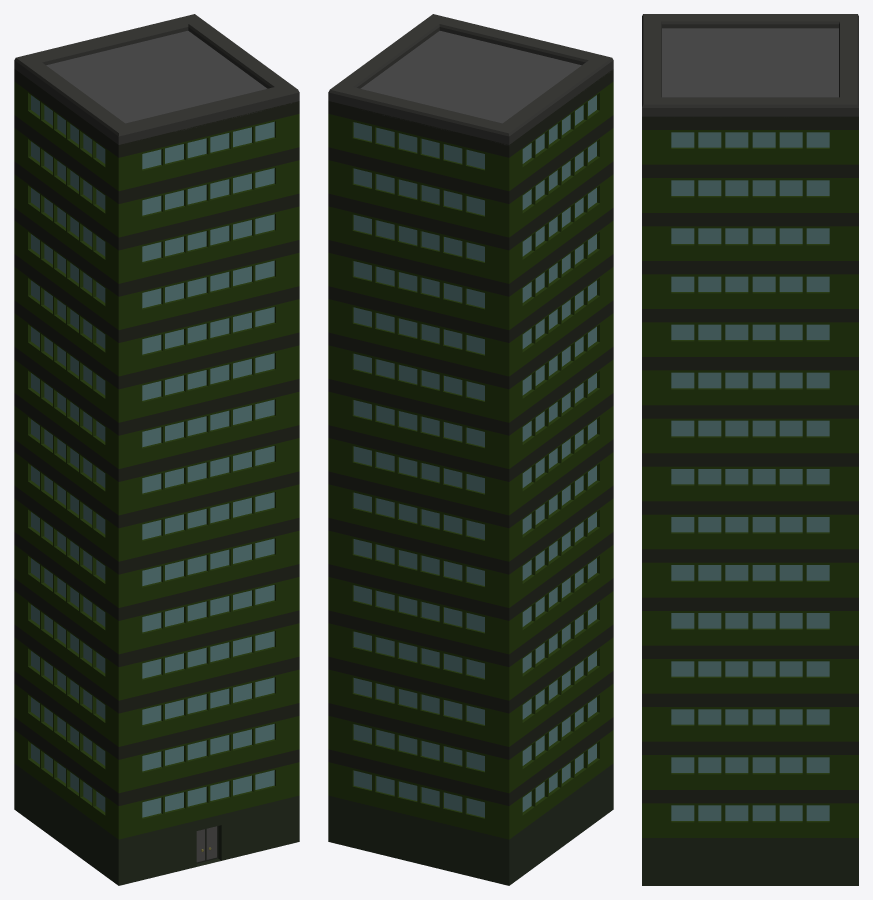
File: edificio_10.fbx
3 renders of one model, left to right at view 1: azimuth 30°, elevation 25°; view 2: azimuth 150°, elevation 25°; view 3: azimuth 270°, elevation 25°, orthographic. The views are drawn at different scales.
Parts seen in each view (by area): view 1: Cube.013; view 2: Cube.013; view 3: Cube.013.
Part boxes in pixels (x1,y1,x2,y2): Cube.013: (14,14,299,885); Cube.013: (328,14,613,885); Cube.013: (642,14,858,885).
Bounding box in the file's own units: 3800 × 15098 × 3800.
